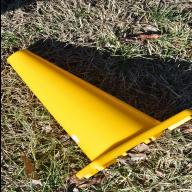cone: (5, 48, 192, 180)
